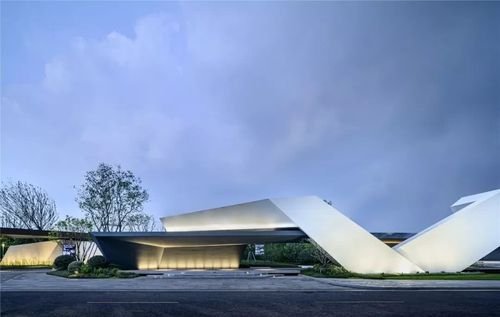sky_cloud: (39, 50, 486, 206)
